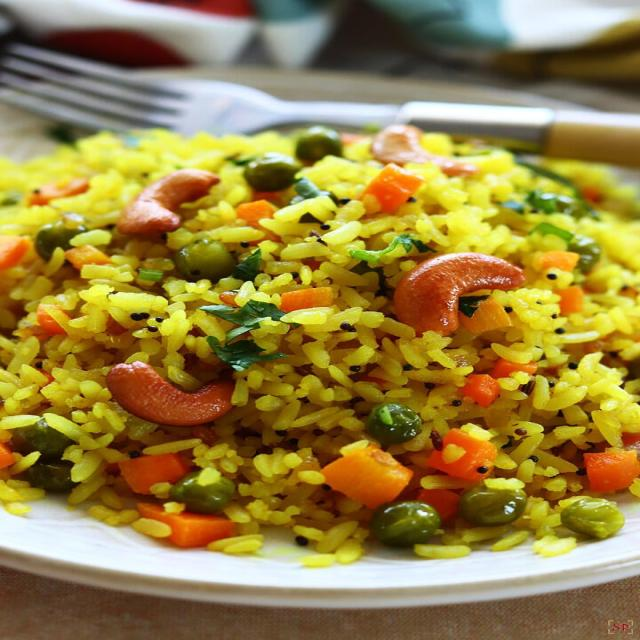POHA: (0, 121, 637, 550)
